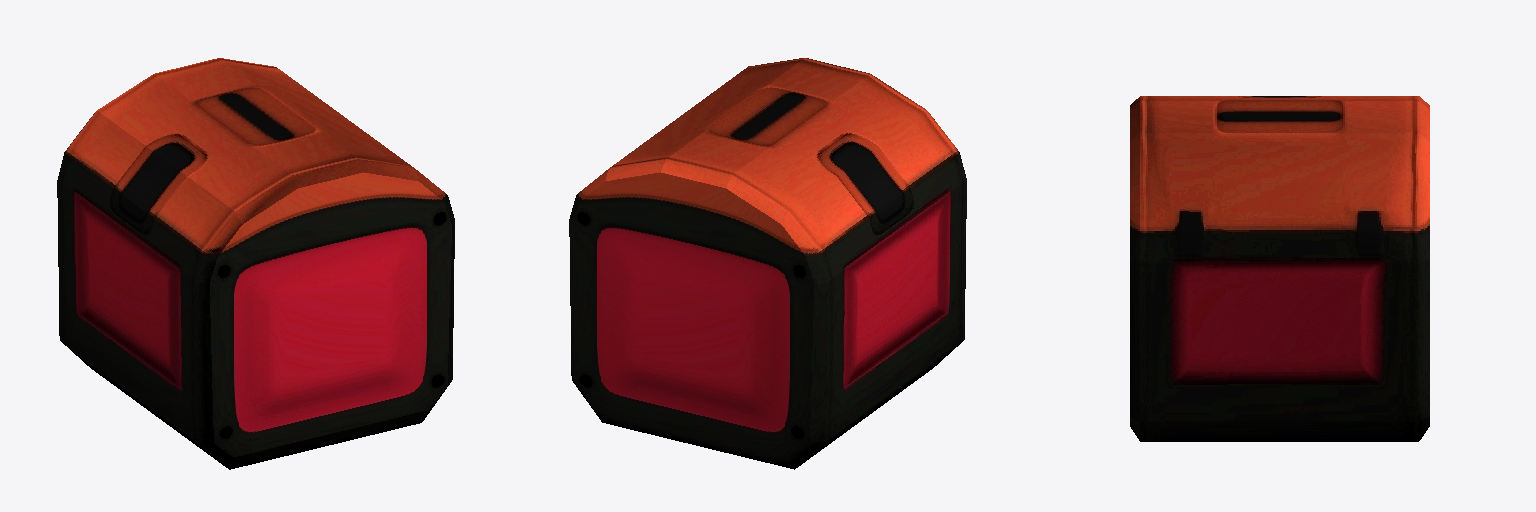
The picture shows the model from 3 angles: view 1: azimuth 30°, elevation 25°; view 2: azimuth 150°, elevation 25°; view 3: azimuth 270°, elevation 25°; orthographic projection.
Visible parts, largest first — view 1: Red_Cube.007; view 2: Red_Cube.007; view 3: Red_Cube.007.
Part boxes in pixels (x1,y1,x2,y2): Red_Cube.007: (57, 58, 454, 469); Red_Cube.007: (569, 58, 966, 469); Red_Cube.007: (1130, 96, 1429, 441).
Size of the model in its own units: 1.97 by 2.03 by 1.98.
1 materials, 1 textured.